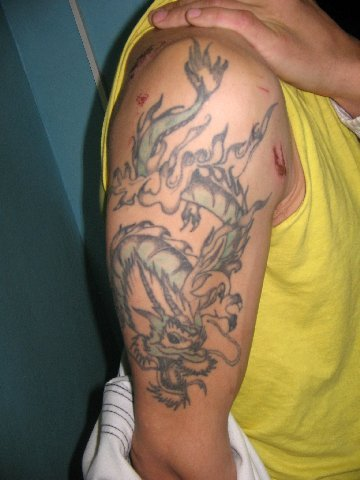tatu6_drakon: (106, 35, 282, 412)
